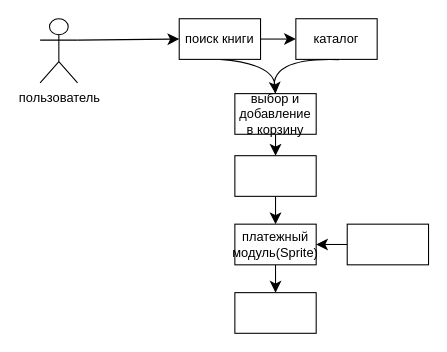
This 447x352 diagram has some shape labels left out. Here are the shapes that lost their labels. From the top down, the centre of each, then its label:
At point 275,175: "оформление заказа".
At point 387,244: "ввод данных клиента".
At point 275,312: "подтверждение заказа".
